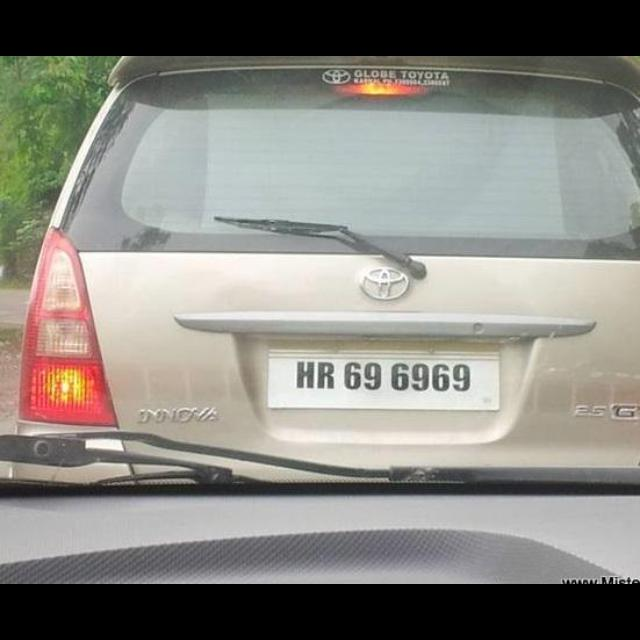number-plate: (263, 351, 498, 404)
vehicles: (12, 56, 640, 478)
